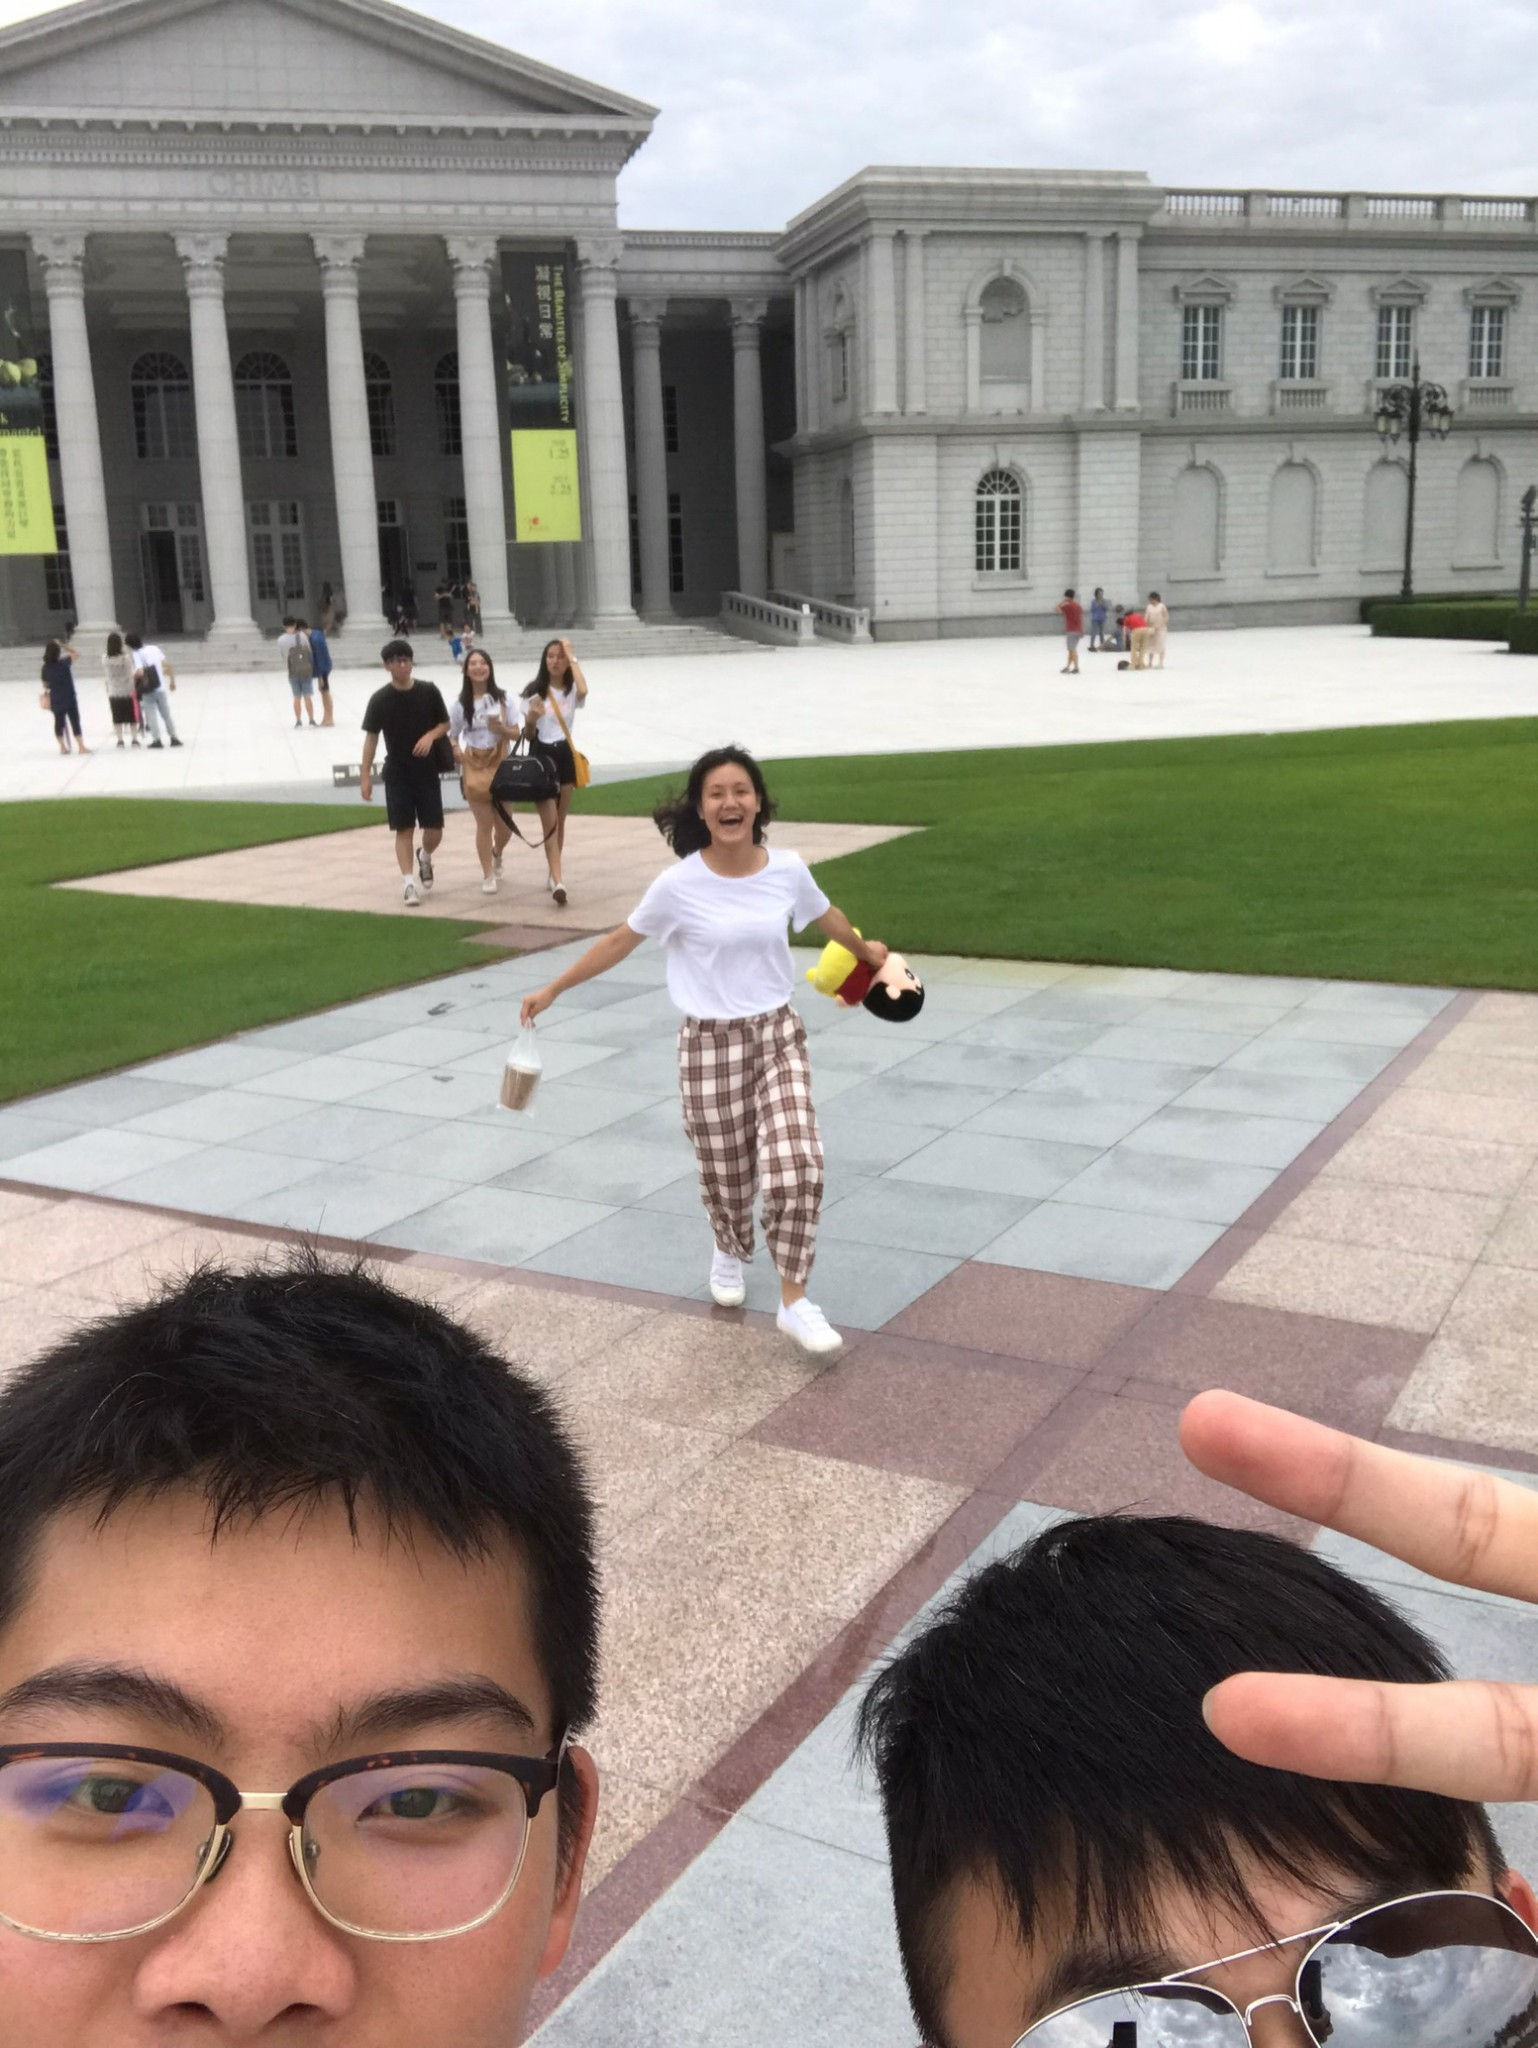people: (3, 1257, 625, 2048), (864, 1512, 1538, 2048), (645, 747, 857, 1380), (357, 644, 454, 912), (519, 631, 590, 912), (461, 651, 516, 905), (267, 618, 338, 728), (132, 628, 180, 757), (32, 641, 83, 751), (93, 631, 141, 747), (1048, 589, 1090, 680), (1135, 589, 1177, 670)
